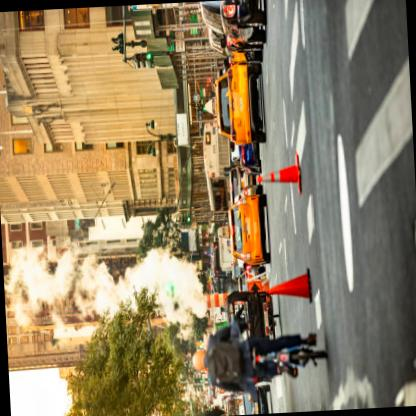manholes: (316, 117, 374, 306)
